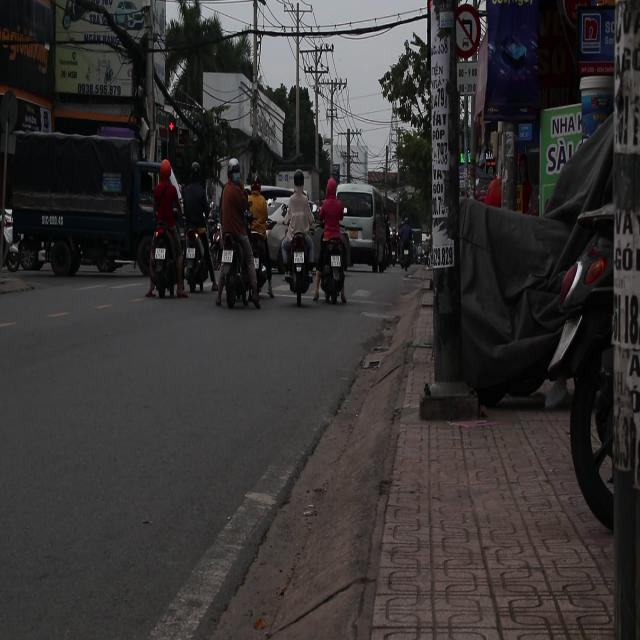motorbike: (214, 218, 264, 317), (149, 220, 182, 306), (281, 227, 315, 305), (319, 237, 349, 311), (183, 217, 209, 300)
truck: (0, 127, 164, 280), (338, 184, 392, 274)
